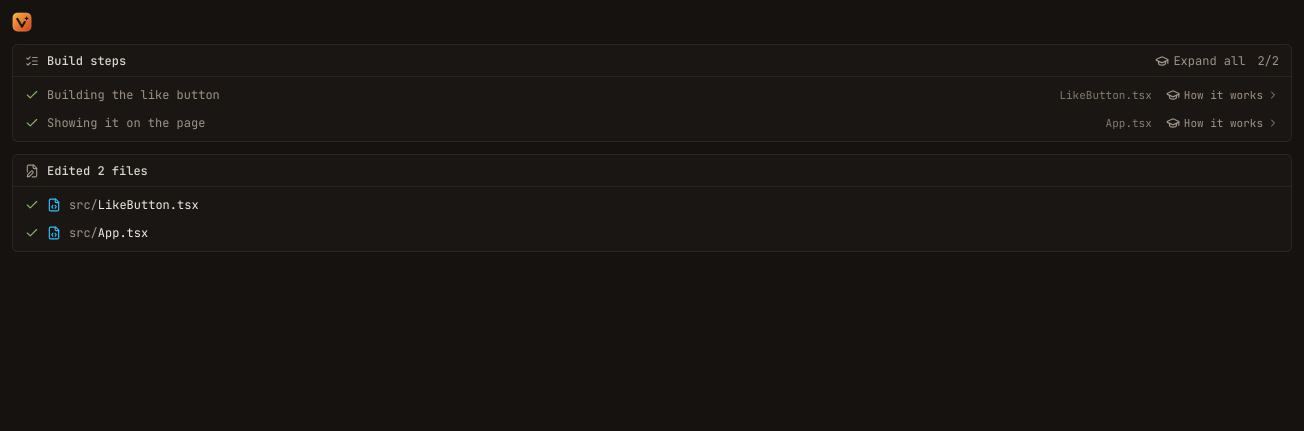
Test: walkthroughs in the chat › open and close all of a card's walkthroughs from its header
This screenshot has width=1304, height=431.
Click the button "Expand all" at (1200, 60), box [1149,48,1251,72]
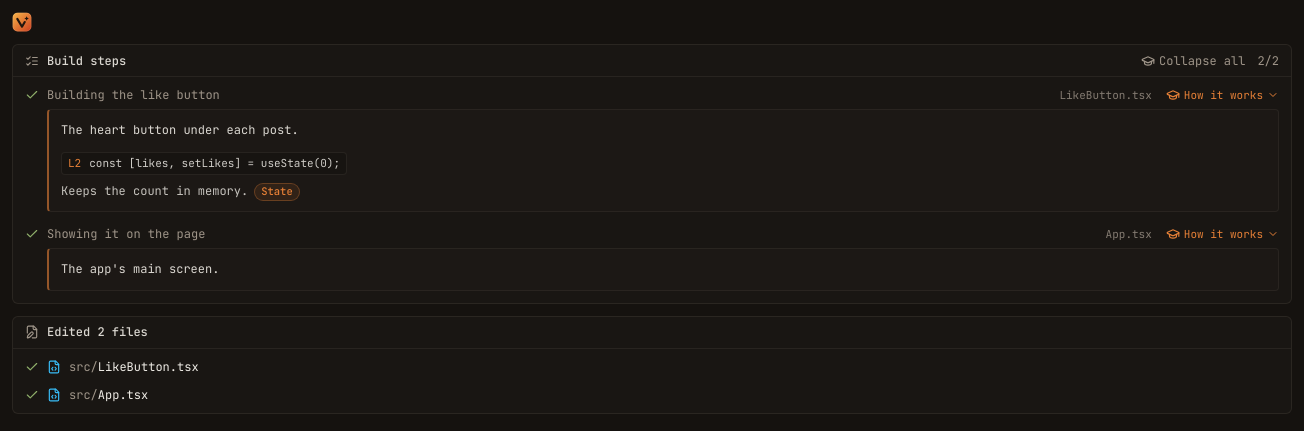
Check: the text "The heart button under each post." is shown, box [61,122,299,138]
Check: the text "The app's main screen." is shown, box [61,261,219,277]
Click the button "Collapse all" at (1193, 60), box [1135,48,1251,72]
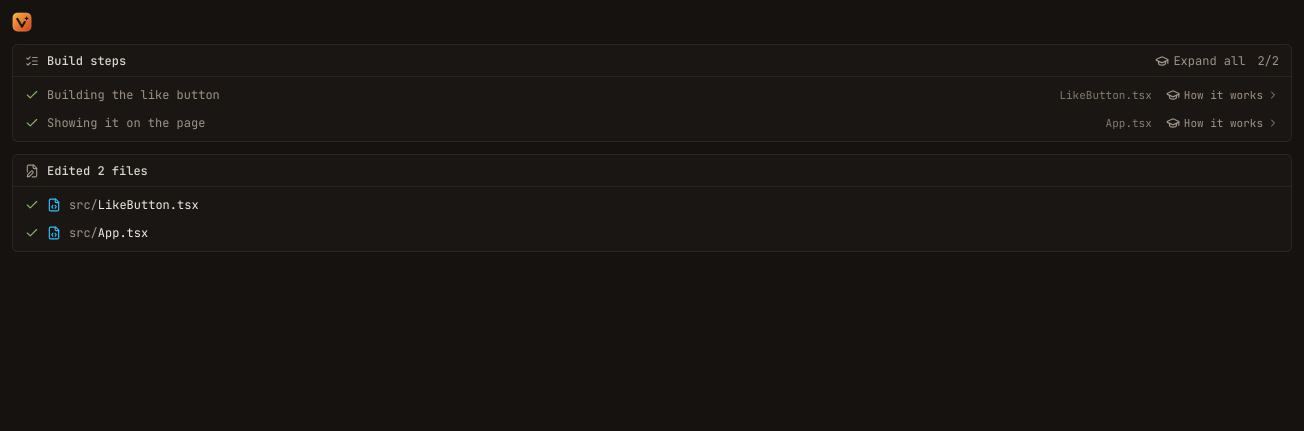
Check: the text "The heart button under each post." is gone
Check: the text "The app's main screen." is gone
